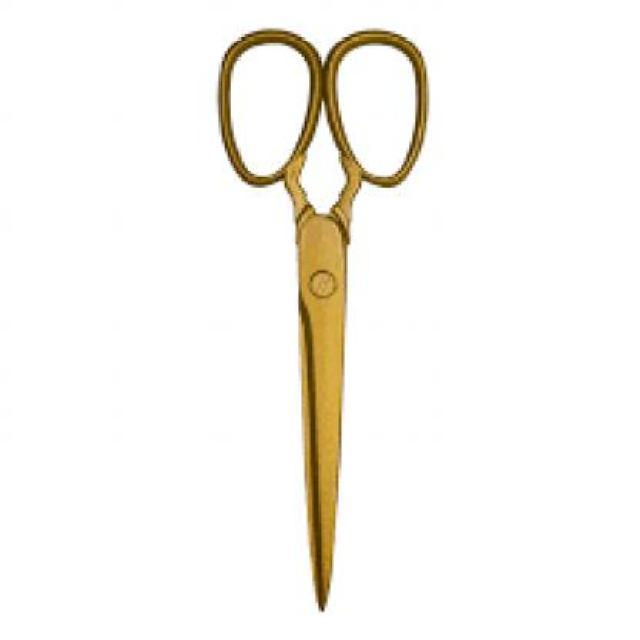scissors: (216, 29, 430, 612)
